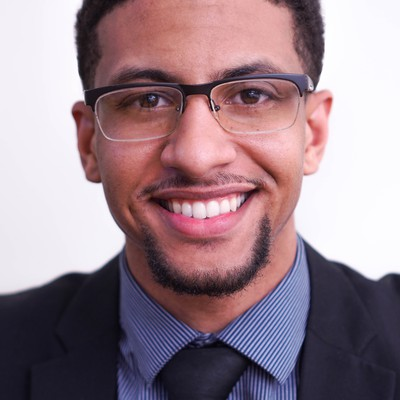eywear: (72, 61, 317, 158), (60, 42, 269, 52)
